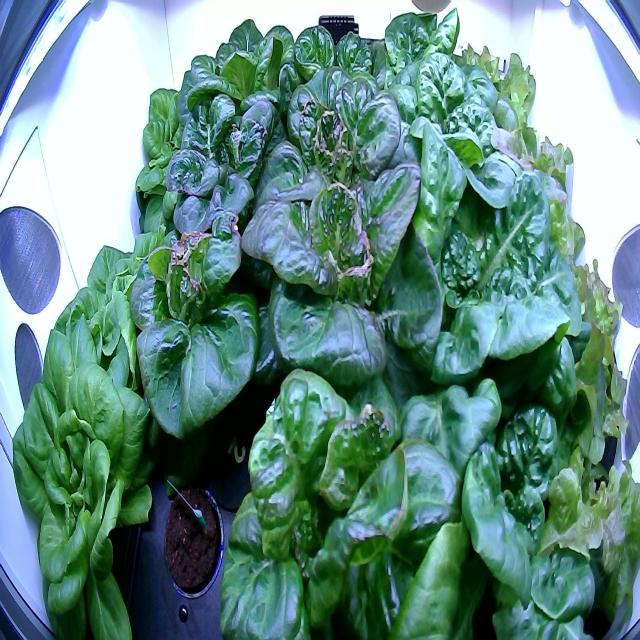Ready: (209, 360, 476, 633), (363, 182, 582, 469), (240, 152, 460, 416), (6, 307, 162, 638), (443, 364, 609, 637), (372, 44, 550, 289), (123, 208, 282, 454), (257, 55, 428, 214), (37, 232, 171, 425), (177, 8, 335, 160), (152, 79, 282, 258), (133, 47, 241, 231), (281, 4, 393, 131), (376, 7, 481, 99)
pod: (152, 467, 232, 611)
